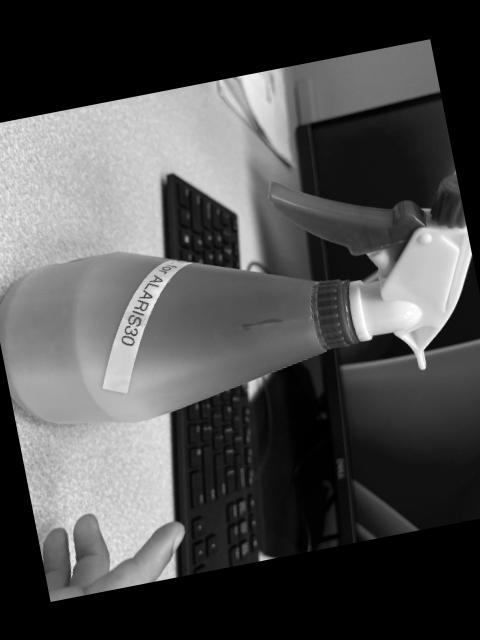AlcoholSpray: (0, 174, 471, 424)
